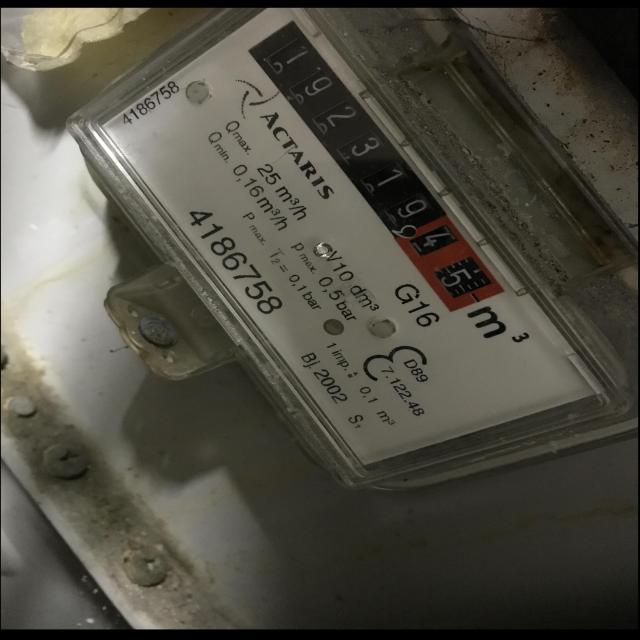gaz_meter: (95, 9, 615, 467)
indication: (248, 17, 503, 311)
